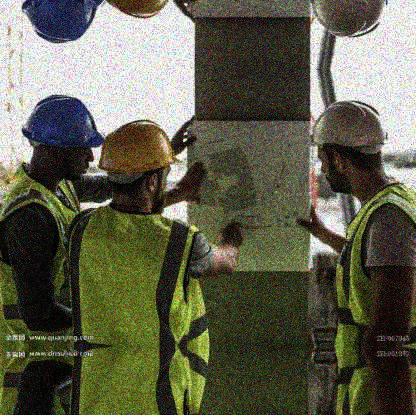helmet: (97, 121, 184, 208), (308, 100, 389, 193), (23, 94, 104, 183)
